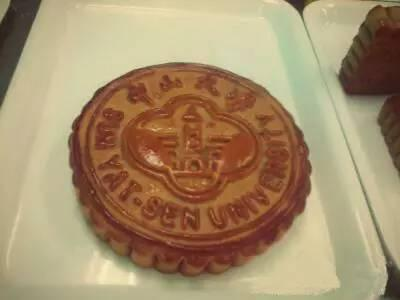MoonCake: (65, 61, 311, 277)
